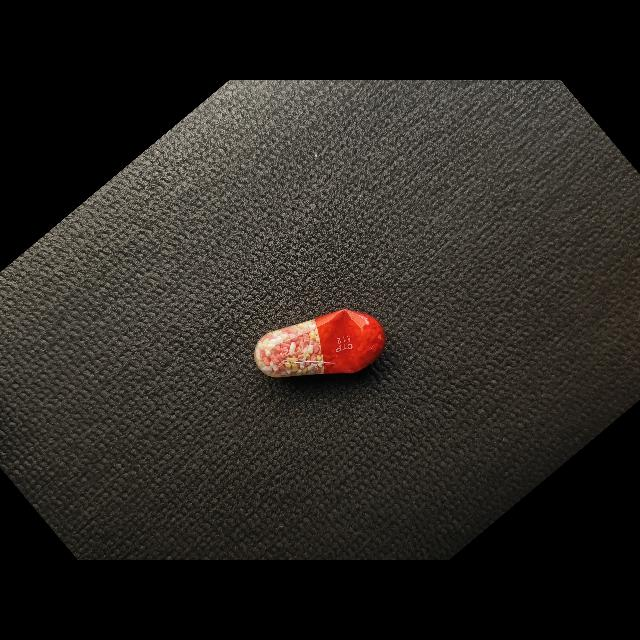Defective Capsule: (254, 309, 386, 377)
